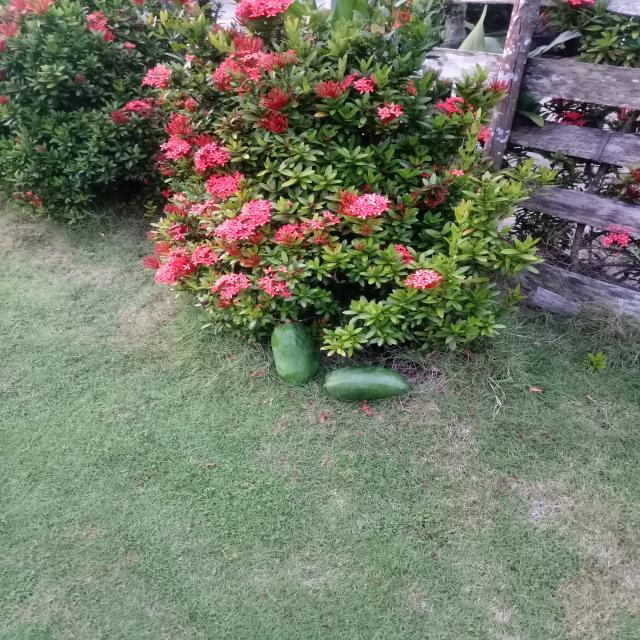Pepaya unrippen: (315, 361, 413, 403), (258, 314, 309, 381)
